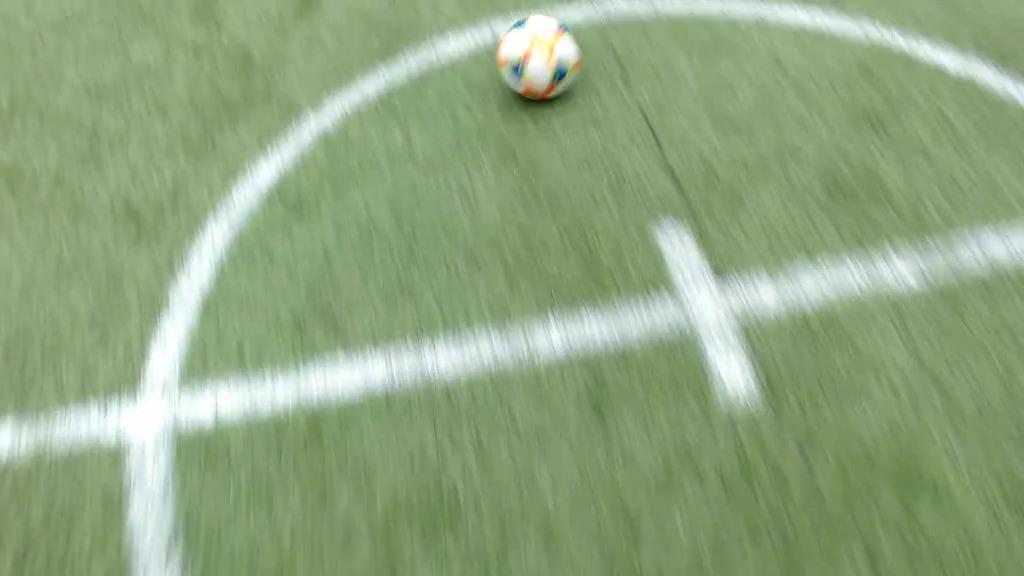ball: (496, 16, 580, 101)
